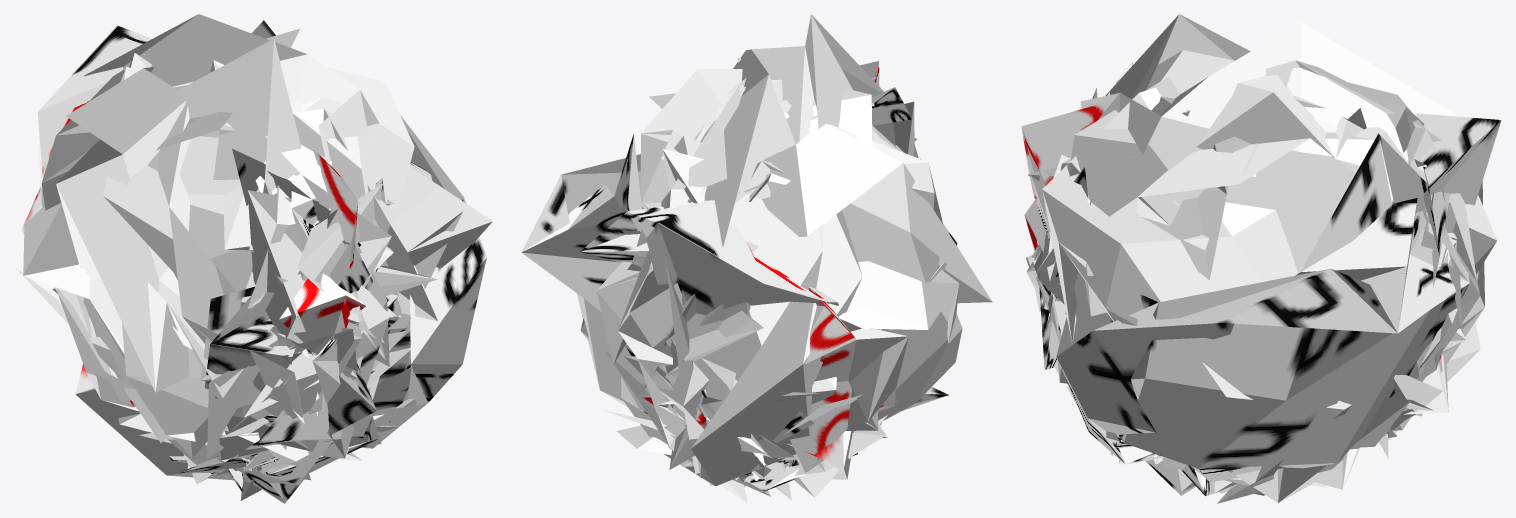
The model's file is paperball1.fbx.
3 renders of one model, left to right at view 1: azimuth 30°, elevation 25°; view 2: azimuth 150°, elevation 25°; view 3: azimuth 270°, elevation 25°, orthographic. The views are drawn at different scales.
Parts seen in each view (by area): view 1: Plane; view 2: Plane; view 3: Plane.
Boxes of the visible parts, <box> form: Plane: <box>15,14,492,503</box>; Plane: <box>521,14,992,503</box>; Plane: <box>1021,14,1501,503</box>.
Bounding box in the file's own units: 43.51 × 50.63 × 46.25.
Materials: 1 (1 with a texture image).
